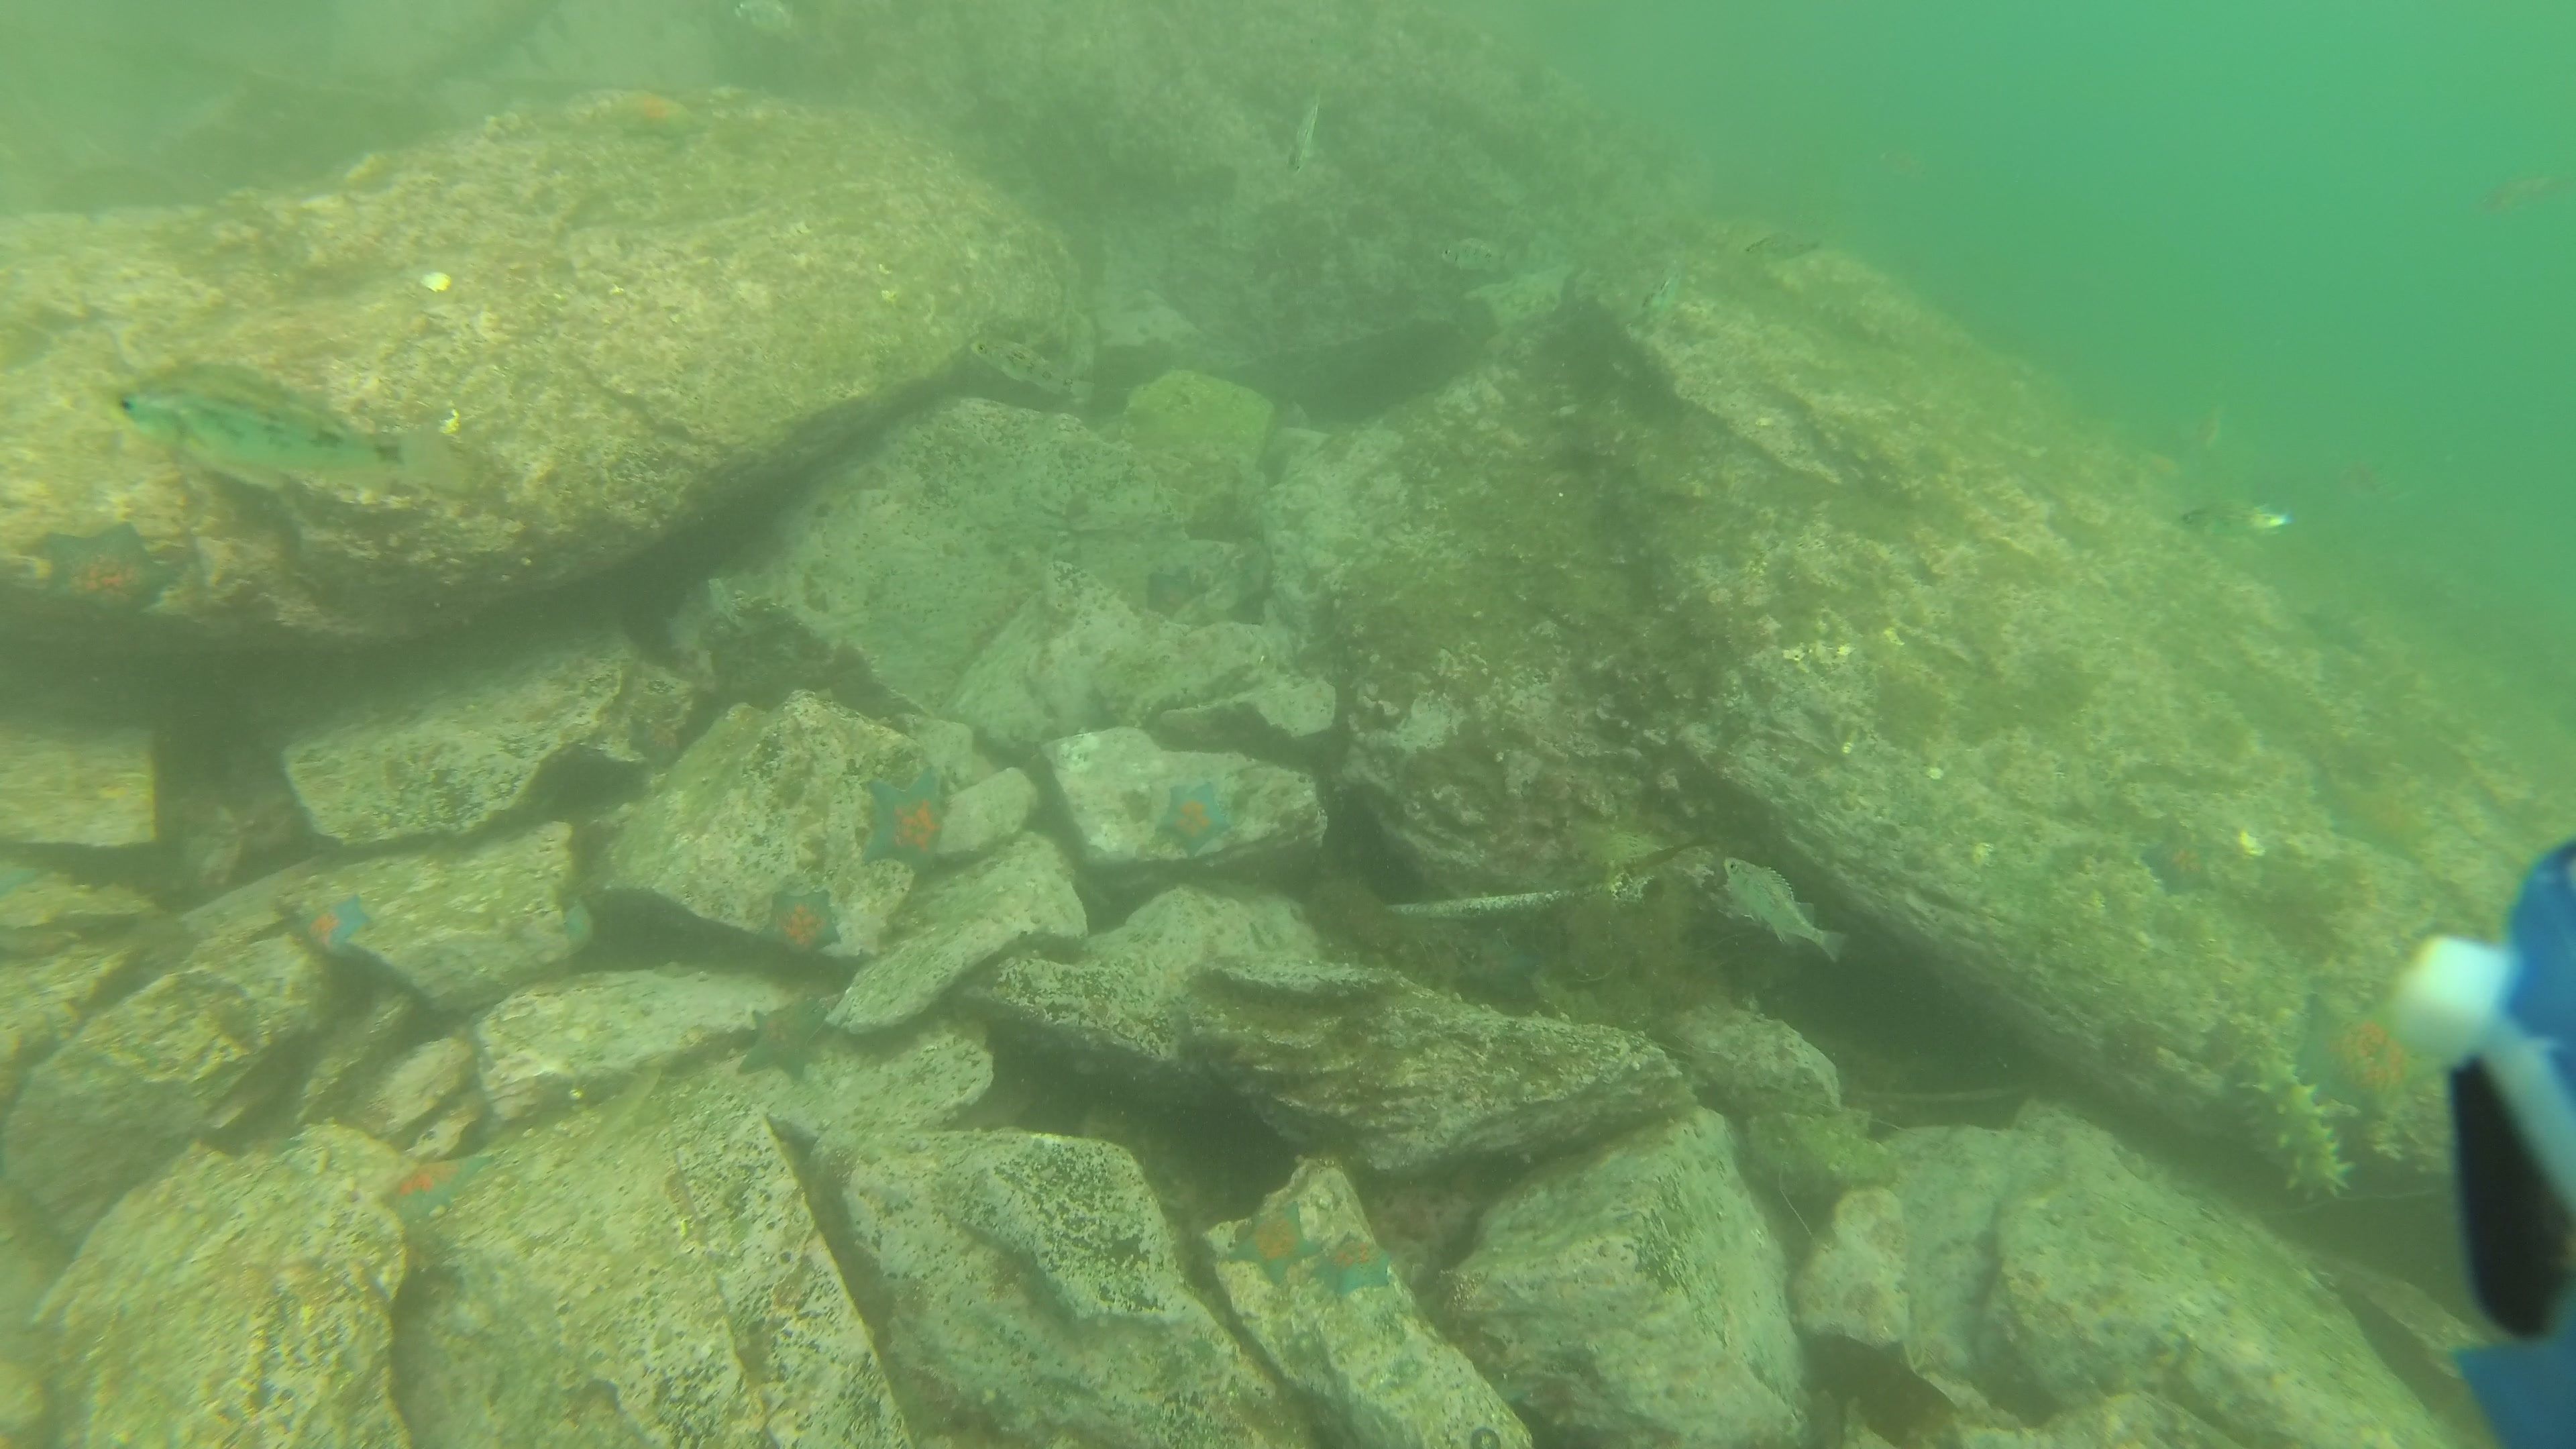holothurian: (2210, 1007, 2362, 1205)
starfish: (2296, 978, 2424, 1123), (35, 518, 184, 623), (2327, 770, 2443, 863), (858, 766, 954, 876), (380, 1145, 506, 1228), (1224, 1198, 1329, 1288), (736, 994, 832, 1085), (2135, 819, 2224, 899), (1155, 777, 1238, 858), (1309, 1226, 1396, 1304), (757, 885, 846, 961), (610, 83, 713, 145), (292, 892, 379, 959), (1143, 561, 1208, 623), (625, 709, 686, 771), (563, 897, 600, 964)
